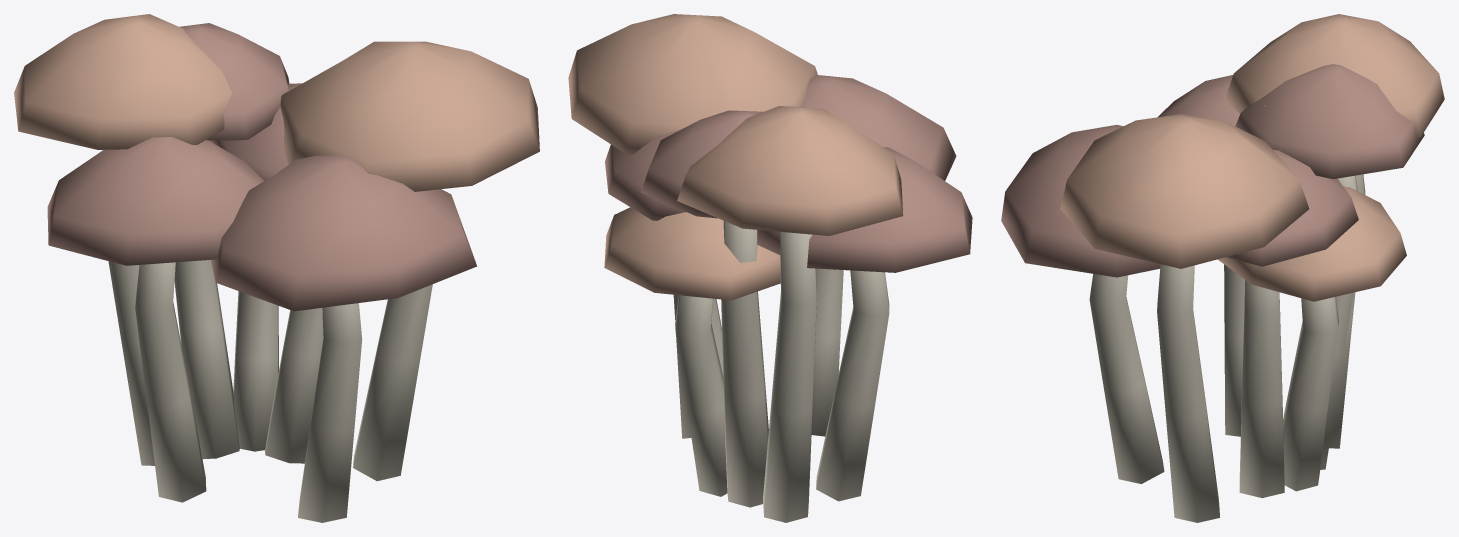
Rendered from mushroom_cluster.glb.
3 renders of one model, left to right at view 1: azimuth 30°, elevation 25°; view 2: azimuth 150°, elevation 25°; view 3: azimuth 270°, elevation 25°, orthographic. The views are drawn at different scales.
Visible parts, largest first — view 1: mushroom_cluster; view 2: mushroom_cluster; view 3: mushroom_cluster.
Boxes of the visible parts, <box> form: mushroom_cluster: <box>14,14,539,522</box>; mushroom_cluster: <box>568,14,972,522</box>; mushroom_cluster: <box>1001,14,1444,522</box>.
Size of the model in its own units: 0.933 by 0.85 by 0.829.
